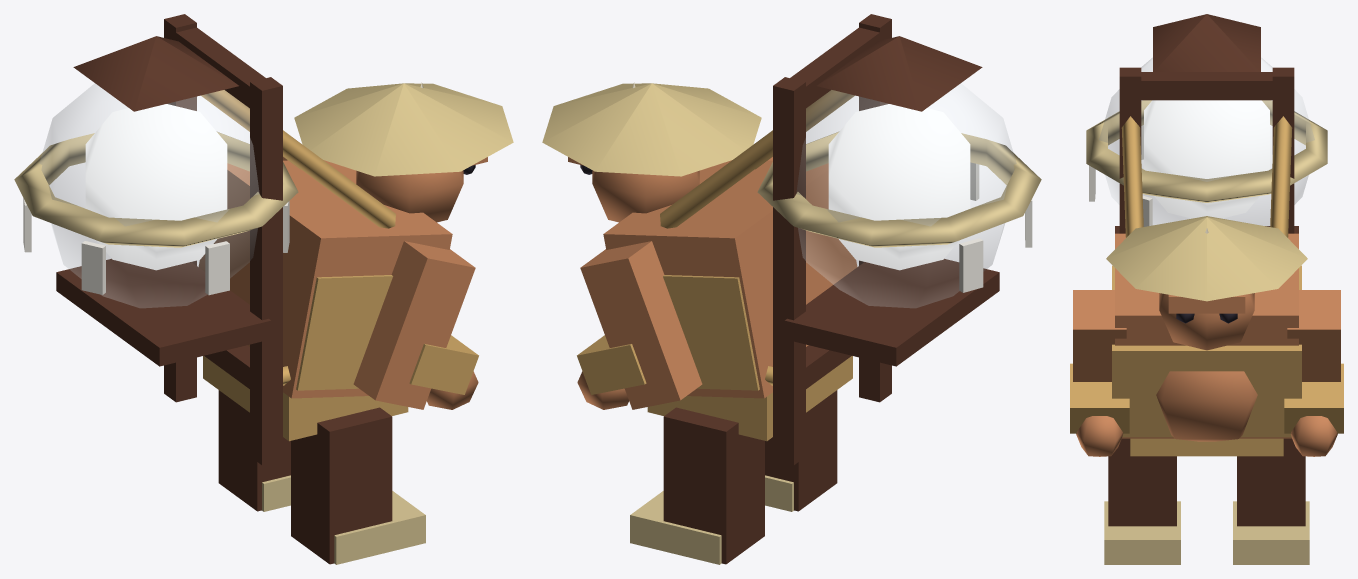
Rendered from enemy_elementCarrier.glb.
3 renders of one model, left to right at view 1: azimuth 30°, elevation 25°; view 2: azimuth 150°, elevation 25°; view 3: azimuth 270°, elevation 25°, orthographic. The views are drawn at different scales.
Parts seen in each view (by area): view 1: vessel_glass, element_core, torso, hat, frame_shelf, leg_l_mesh, arm_l_mesh, frame_post_l, vessel_shimenawa, vest, vessel_lid, leg_r_mesh (+13 smaller); view 2: vessel_glass, torso, element_core, hat, frame_shelf, leg_r_mesh, frame_post_r, arm_r_mesh, vessel_shimenawa, vest, vessel_lid, leg_l_mesh (+12 smaller); view 3: vessel_glass, hat, element_core, vest, vessel_shimenawa, torso, belly, vessel_lid, leg_l_mesh, leg_r_mesh, frame_bar_top, arm_l_mesh (+14 smaller).
Part boxes in pixels (x1,y1,x2,y2): vessel_glass: (39, 83, 259, 307); element_core: (85, 104, 227, 270); torso: (198, 160, 452, 398); hat: (294, 83, 513, 176); frame_shelf: (56, 258, 271, 366); leg_l_mesh: (291, 407, 392, 564); arm_l_mesh: (353, 241, 475, 409); frame_post_l: (250, 77, 282, 465); vessel_shimenawa: (14, 131, 298, 247); vest: (296, 275, 392, 390); vessel_lid: (73, 36, 238, 111); leg_r_mesh: (218, 390, 290, 511); vessel_glass: (796, 83, 1016, 307); torso: (603, 160, 857, 398); element_core: (828, 104, 970, 270); hat: (542, 83, 761, 176); frame_shelf: (784, 258, 999, 366); leg_r_mesh: (663, 407, 764, 564); frame_post_r: (773, 77, 805, 465); arm_r_mesh: (580, 241, 702, 409); vessel_shimenawa: (757, 131, 1041, 247); vest: (663, 275, 759, 390); vessel_lid: (817, 36, 982, 111); leg_l_mesh: (765, 390, 837, 511); vessel_glass: (1099, 58, 1314, 226); hat: (1106, 216, 1307, 301); element_core: (1144, 100, 1269, 218); vest: (1112, 265, 1301, 437); vessel_shimenawa: (1086, 100, 1327, 202); torso: (1115, 233, 1298, 438); belly: (1156, 371, 1257, 441); vessel_lid: (1153, 14, 1260, 71); leg_l_mesh: (1108, 438, 1176, 526); leg_r_mesh: (1237, 438, 1305, 526); frame_bar_top: (1119, 72, 1294, 100); arm_l_mesh: (1073, 290, 1126, 381).
Bounding box in the file's own units: 0.315 × 0.331 × 0.179.
